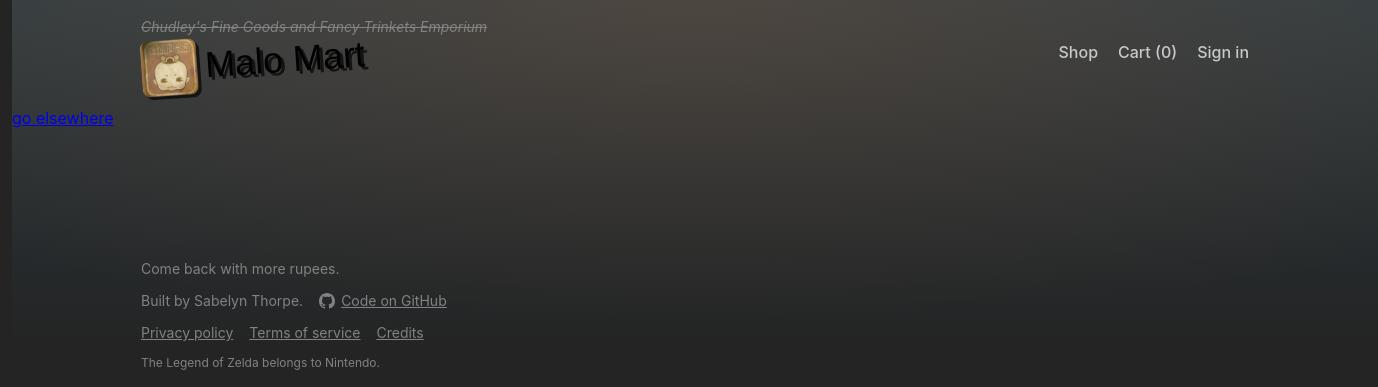
Test: Layout › moves focus to the main content after navigating
The image size is (1378, 387).
Click the link "go elsewhere" at x=63, y=118, box [12,108,114,128]
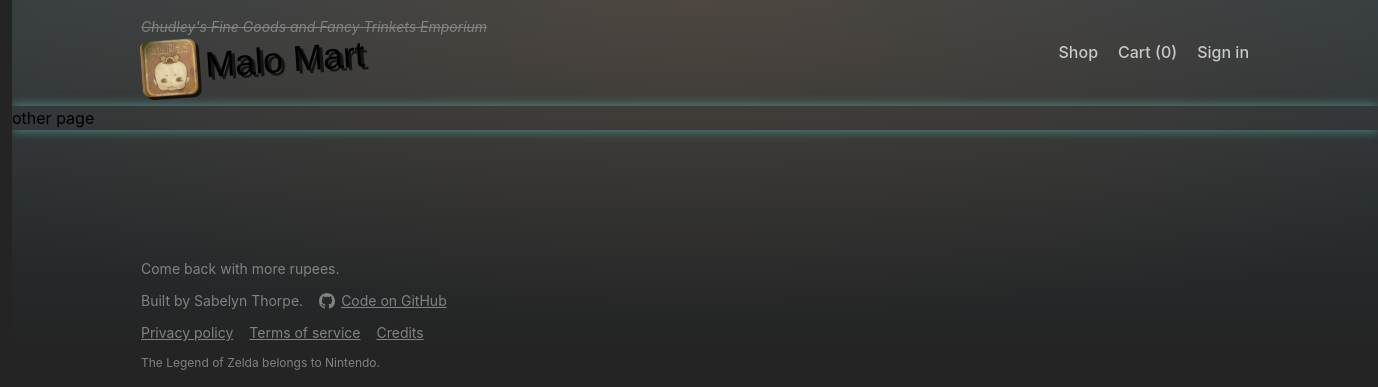
Result: the text "other page" is shown at [12,108,94,128]
